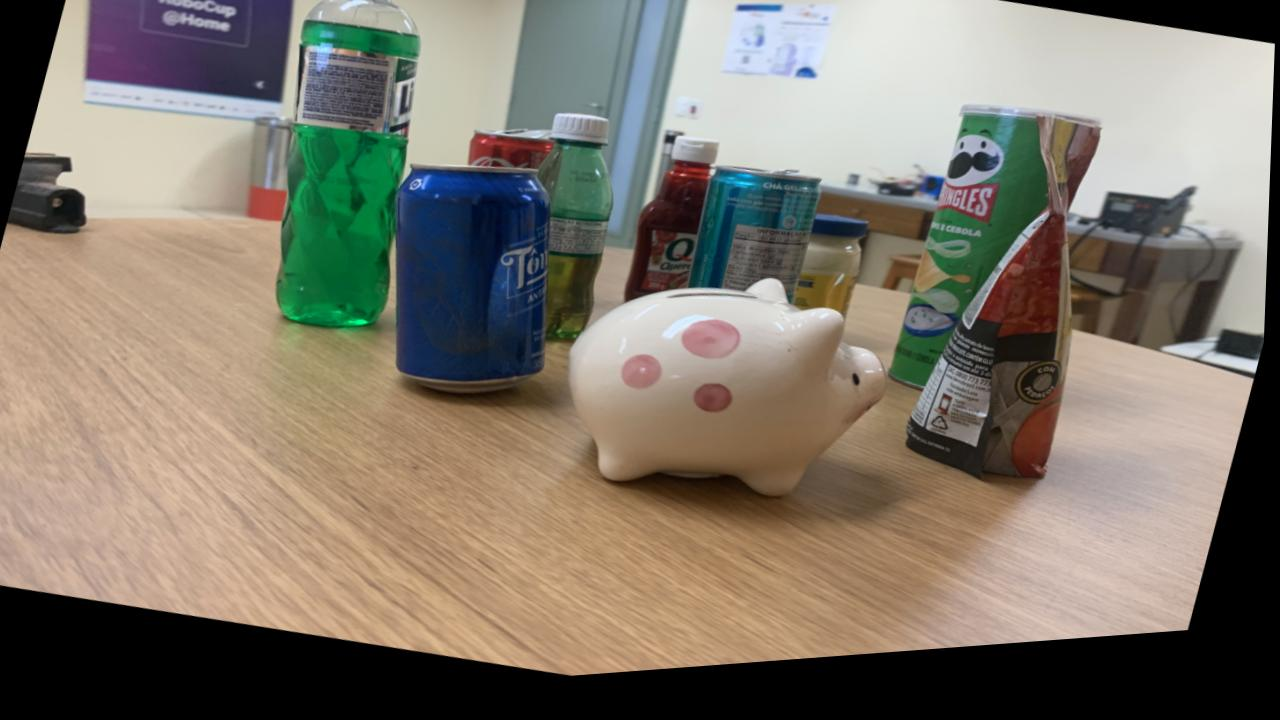Coke-Drinks: (468, 136, 555, 177)
Detergent-Cleanup_Items: (277, 0, 421, 332)
Guarana-Drinks: (538, 121, 615, 348)
Ketchup-Pantry_Items: (626, 146, 720, 311)
Mayonnaise-Pantry_Items: (794, 226, 871, 329)
Pig_Safe-Miscellaneous: (571, 290, 890, 509)
Pringles-Snacks: (893, 120, 1051, 402)
Tea-Drinks: (690, 176, 823, 310)
Tomato_Sauce-Pantry_Items: (910, 131, 1100, 494)
Tonic-Drinks: (397, 171, 552, 401)
